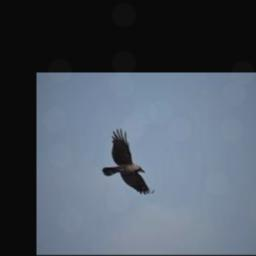Crow: (102, 128, 149, 194)
